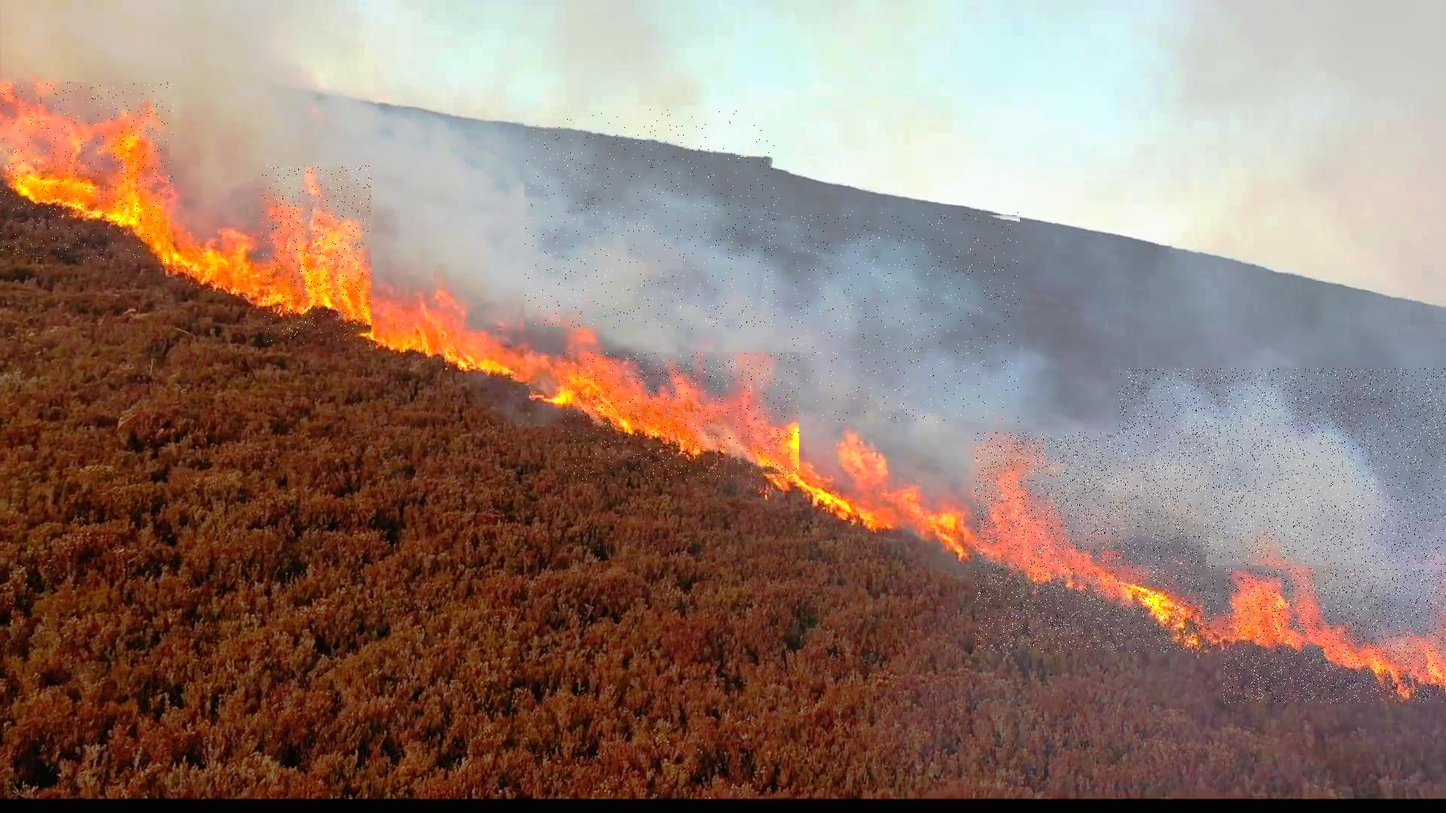fire: (976, 432, 1218, 653), (0, 83, 173, 263), (563, 353, 799, 481), (1223, 568, 1446, 703), (261, 166, 371, 344)
smoke: (1118, 368, 1446, 565), (525, 105, 780, 329), (791, 211, 1020, 422)
